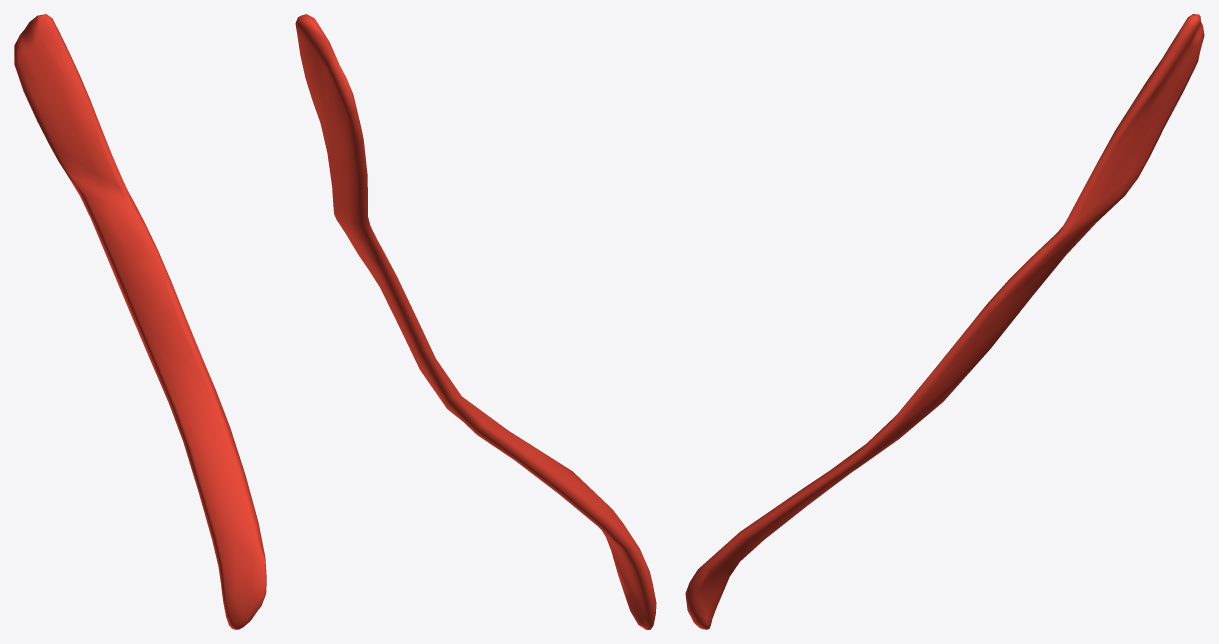
File: Nasalis_muscle_on_nasal_bone.r_Generated_Mesh_From_X3D.958.glb
3 views of the same model, side by side, from view 1: azimuth 30°, elevation 25°; view 2: azimuth 150°, elevation 25°; view 3: azimuth 270°, elevation 25° (orthographic). The views are drawn at different scales.
Visible parts, largest first — view 1: Nasalis_muscle_on_nasal_bone.r_Generated_Mesh_From_X3D.958; view 2: Nasalis_muscle_on_nasal_bone.r_Generated_Mesh_From_X3D.958; view 3: Nasalis_muscle_on_nasal_bone.r_Generated_Mesh_From_X3D.958.
Part boxes in pixels (x1=…): Nasalis_muscle_on_nasal_bone.r_Generated_Mesh_From_X3D.958: x1=14, y1=14, x2=266, y2=629; Nasalis_muscle_on_nasal_bone.r_Generated_Mesh_From_X3D.958: x1=295, y1=14, x2=656, y2=629; Nasalis_muscle_on_nasal_bone.r_Generated_Mesh_From_X3D.958: x1=685, y1=14, x2=1204, y2=629.
Size of the model in its own units: 0.00383 by 0.0221 by 0.0169.
